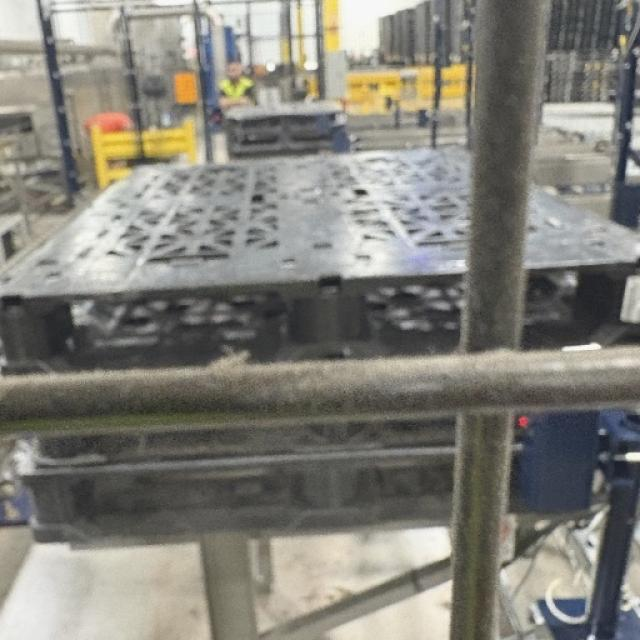igps: (0, 136, 640, 383)
